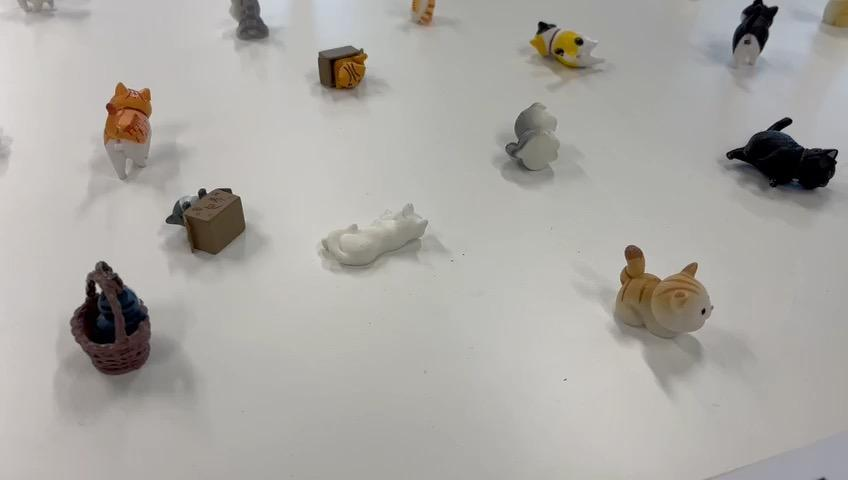pet: (723, 101, 846, 241), (313, 181, 457, 296), (608, 239, 733, 371), (160, 161, 266, 279), (61, 269, 166, 376), (483, 91, 575, 202), (88, 69, 152, 200), (303, 39, 389, 126), (523, 6, 610, 90), (203, 0, 283, 59), (718, 4, 773, 85)
